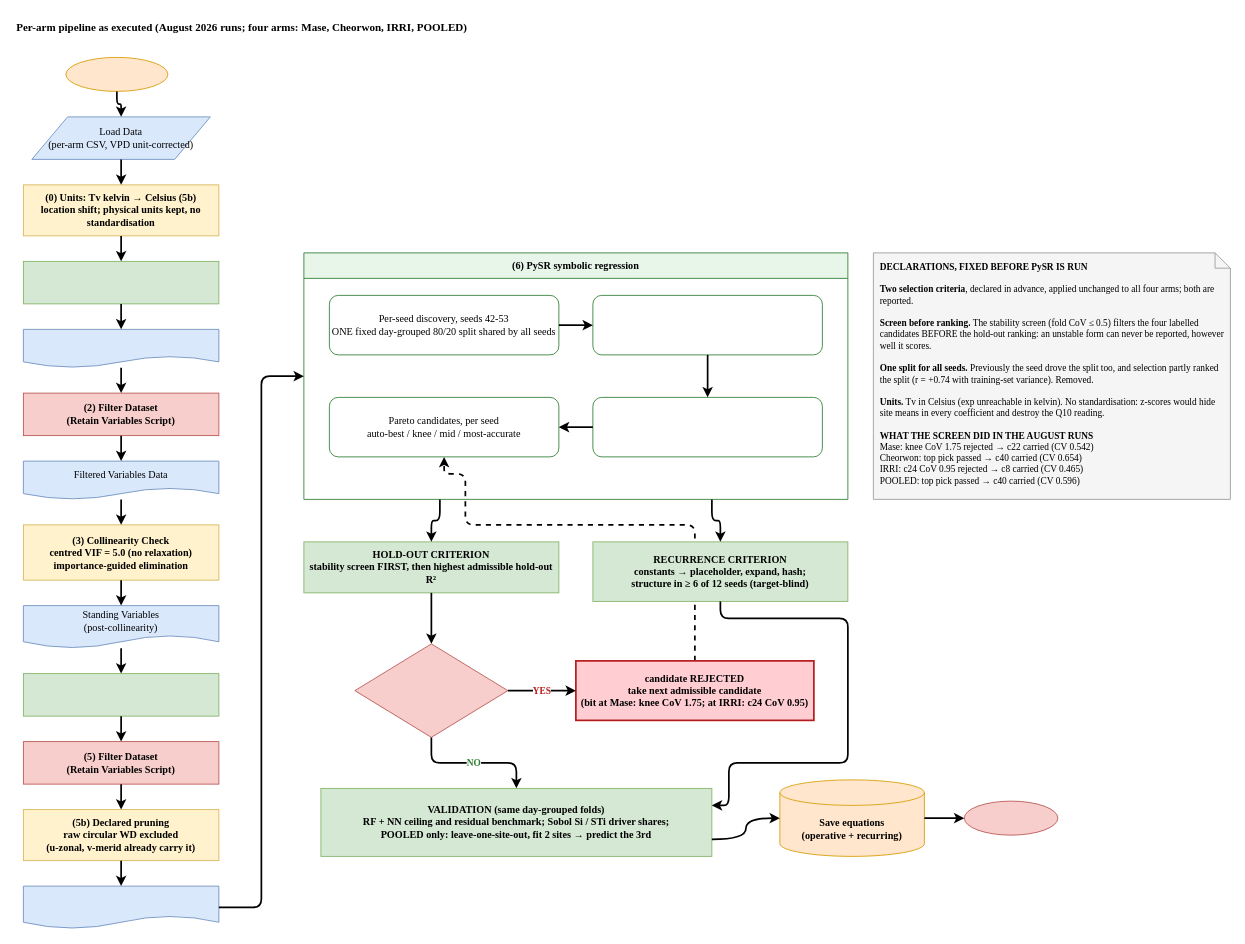
Image size: 1245x944. Some labels were removed from this diagram. Each missing label, with the box of its shape:
(1) Feature Selection (GAM-RF Union: PIMP + Boruta): (23, 261, 219, 304)
(4) Second Feature Selection (GAM-RF Union Script): (23, 673, 219, 716)
any coefficient |CoV| > 0.5 across folds?: (354, 643, 508, 737)
Consensus important variables: (23, 329, 219, 368)
Day-grouped 5-fold CV per-fold coefficient refits: (592, 397, 822, 457)
END: (963, 800, 1058, 835)
Retained Variables 10 / 15 / 7 / 14 predictors: (23, 885, 219, 929)
Search: complexity ≤ 40 ops +, −, ×, ÷, exp, log, √ no tanh; no exp∘exp: (592, 295, 822, 355)
START: (65, 57, 168, 91)
